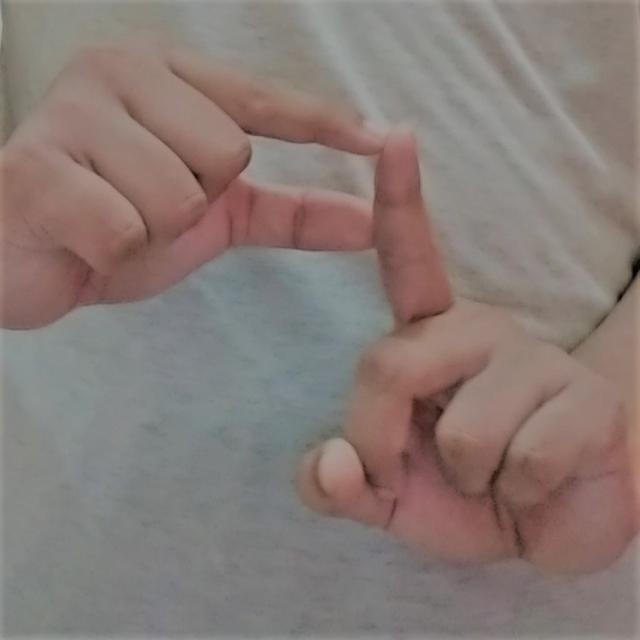P: (20, 25, 622, 589)
